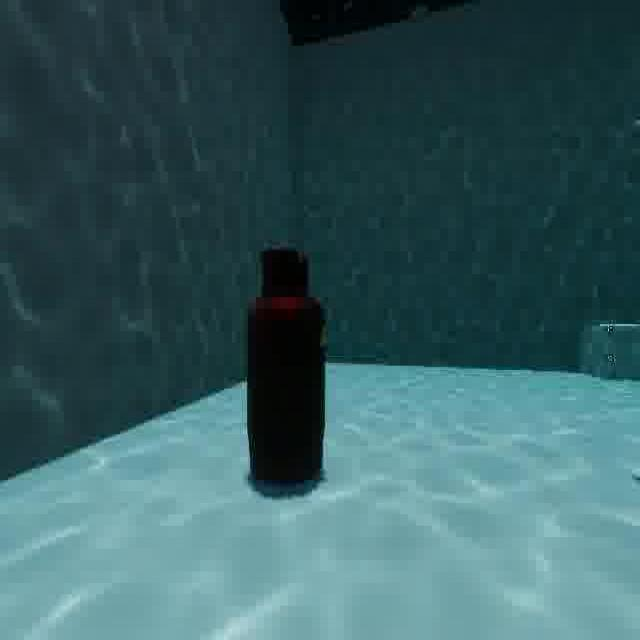Cylinder: (238, 228, 334, 506)
Docking Station: (582, 313, 640, 388)
